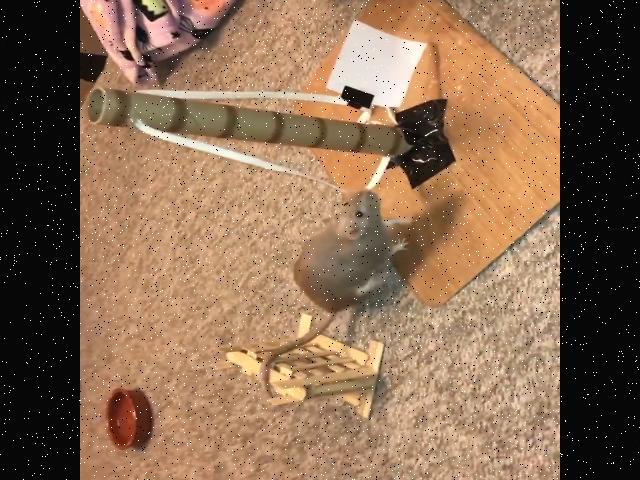Tikus: (288, 187, 422, 311)
